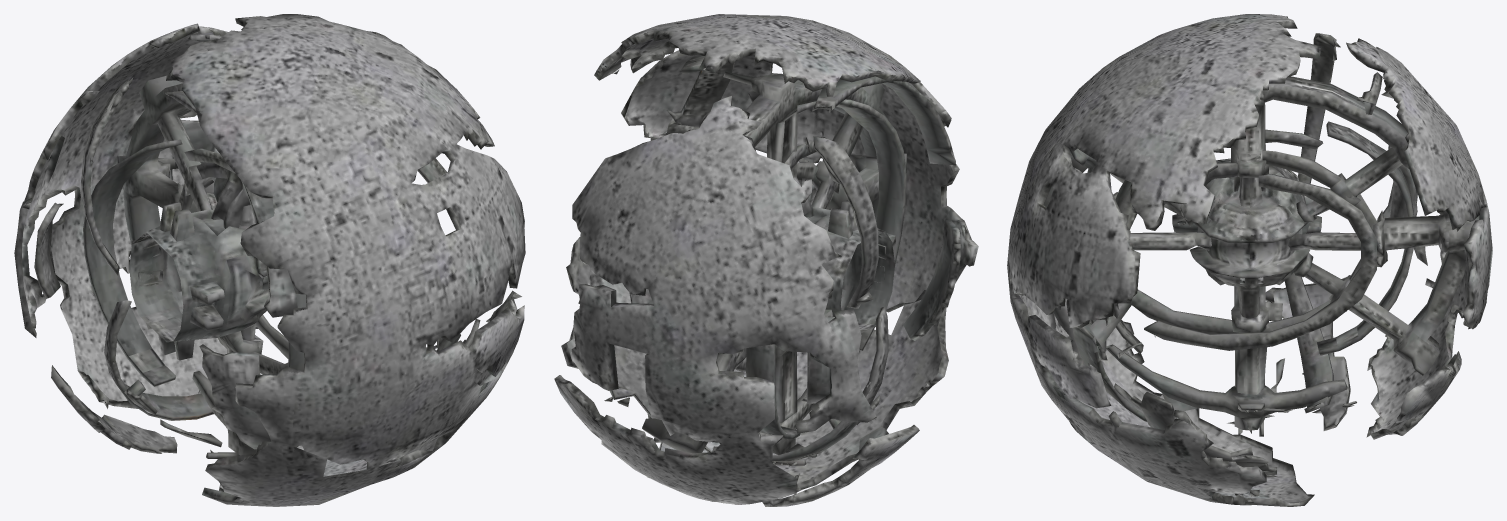
The model's file is monument_fragmented_dyson_sphere.glb.
3 views of the same model, side by side, from view 1: azimuth 30°, elevation 25°; view 2: azimuth 150°, elevation 25°; view 3: azimuth 270°, elevation 25° (orthographic). The views are drawn at different scales.
Parts seen in each view (by area): view 1: tripo_node_90828db2-532a-48dc-99ab-a6074d82e74c; view 2: tripo_node_90828db2-532a-48dc-99ab-a6074d82e74c; view 3: tripo_node_90828db2-532a-48dc-99ab-a6074d82e74c.
Part boxes in pixels (box(x1,y1,x2,y2)): tripo_node_90828db2-532a-48dc-99ab-a6074d82e74c: box(14, 14, 525, 506); tripo_node_90828db2-532a-48dc-99ab-a6074d82e74c: box(554, 14, 978, 506); tripo_node_90828db2-532a-48dc-99ab-a6074d82e74c: box(1007, 14, 1492, 506).
Size of the model in its own units: 0.9248 by 0.9995 by 0.9985.
1 material, 1 textured.
